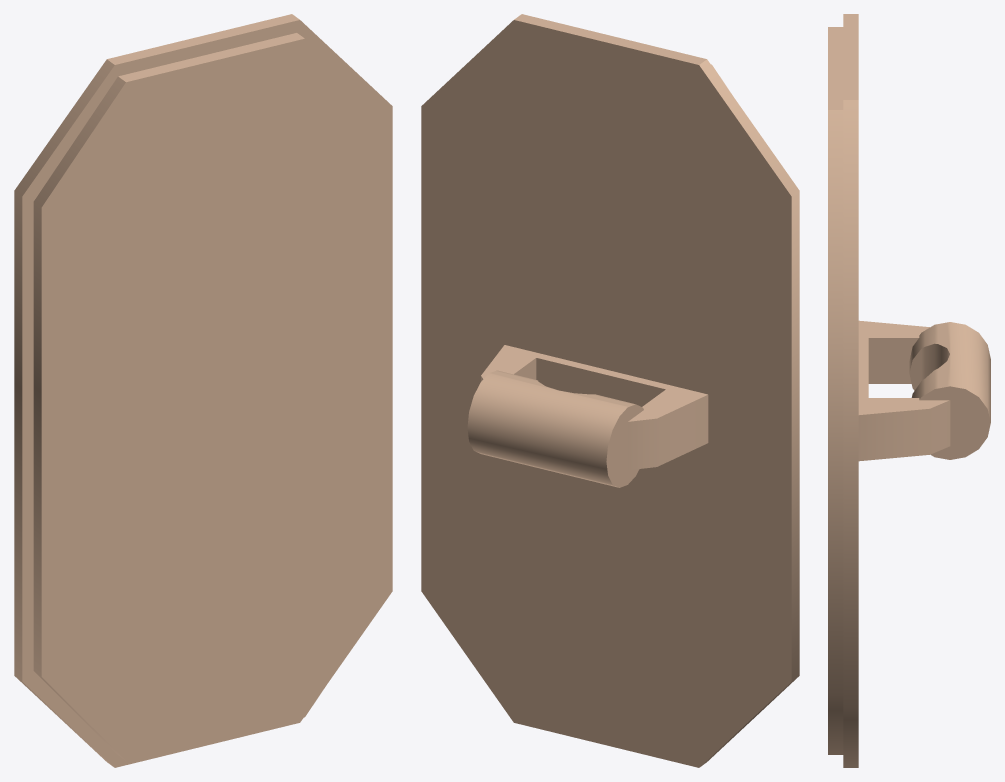
File: shield.dae
The picture shows the model from 3 angles, left to right: view 1: azimuth 30°, elevation 25°; view 2: azimuth 150°, elevation 25°; view 3: azimuth 270°, elevation 25°; orthographic projection. The views are drawn at different scales.
Visible parts, largest first — view 1: Object; view 2: Object; view 3: Object.
Part boxes in pixels (x1=…): Object: x1=14, y1=14, x2=392, y2=767; Object: x1=421, y1=14, x2=799, y2=767; Object: x1=828, y1=14, x2=990, y2=767.
Size of the model in its own units: 0.016 by 0.0064 by 0.029.
